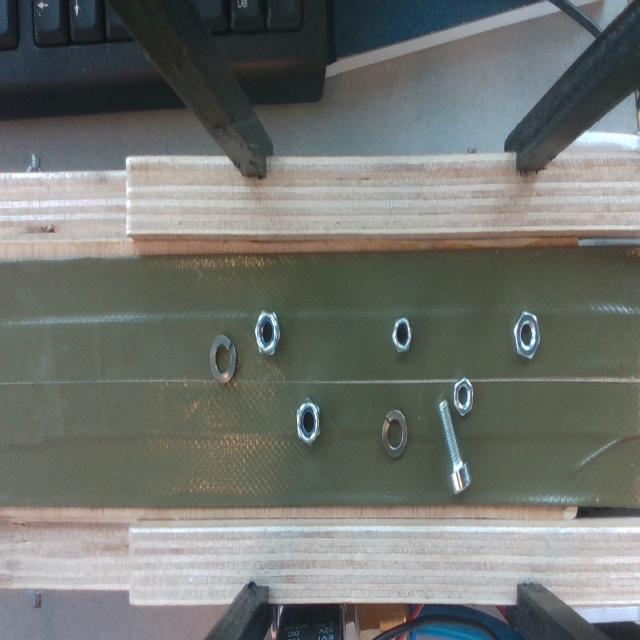Bolt: (439, 400, 471, 495)
Nut: (514, 312, 540, 358), (255, 312, 280, 356), (296, 400, 320, 445), (454, 378, 474, 416), (392, 319, 411, 352)
washer: (382, 409, 408, 458), (210, 335, 236, 382)
